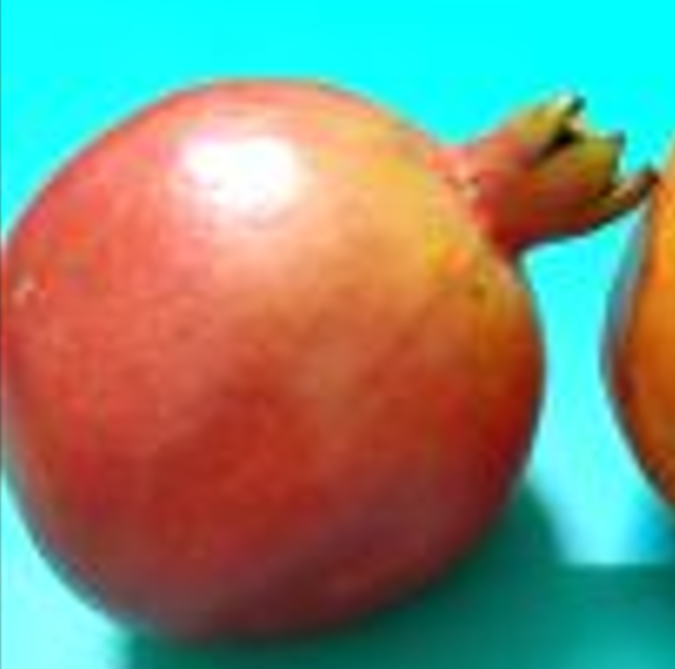pomegranate_A: (1, 79, 659, 646)
